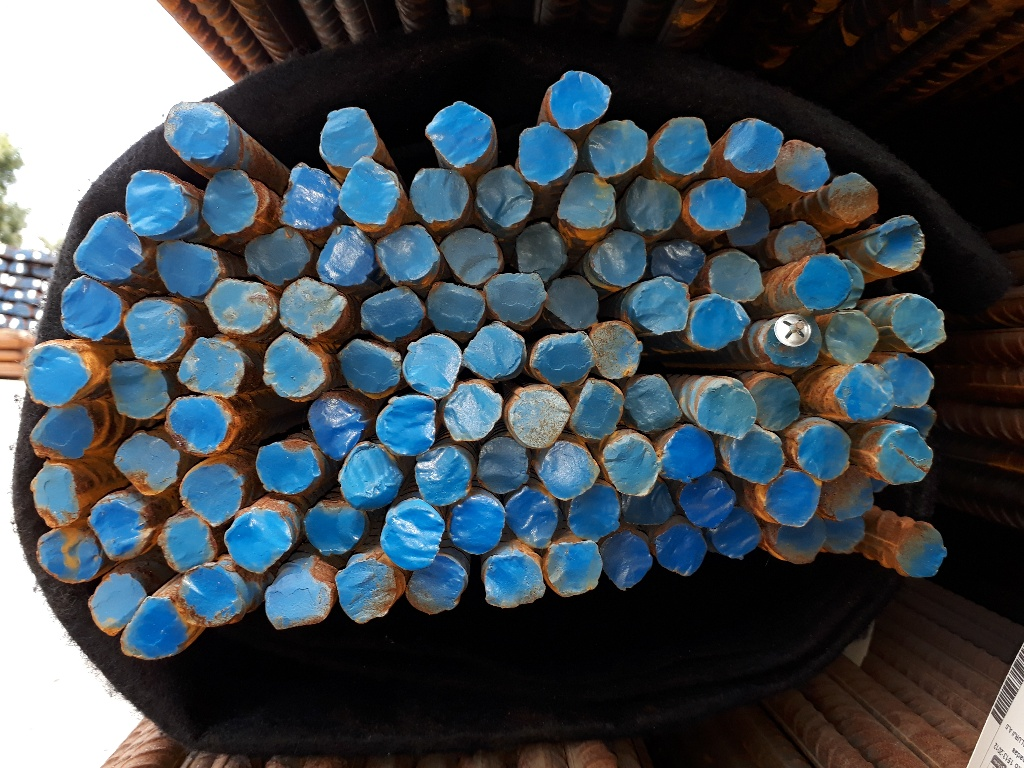dipstick: (424, 101, 494, 170), (72, 212, 144, 279), (381, 500, 445, 573), (339, 441, 405, 509), (177, 336, 247, 400), (278, 160, 341, 231), (337, 157, 400, 226), (23, 344, 91, 407), (225, 511, 291, 575), (119, 597, 186, 660), (86, 502, 155, 563), (114, 433, 180, 496), (279, 278, 349, 337), (164, 397, 233, 456), (550, 67, 613, 131), (335, 559, 398, 623), (179, 564, 243, 627), (264, 333, 326, 398), (164, 101, 231, 161), (180, 464, 243, 527), (61, 277, 123, 341), (205, 278, 275, 334), (125, 298, 186, 362), (89, 572, 149, 637), (517, 121, 578, 184), (339, 338, 403, 398), (106, 360, 170, 420), (585, 120, 648, 180), (407, 552, 467, 615), (126, 171, 186, 234), (154, 239, 218, 298), (475, 164, 533, 228), (244, 227, 308, 285), (257, 438, 321, 496), (374, 396, 435, 456), (538, 441, 600, 500), (891, 290, 948, 354), (37, 527, 102, 583), (202, 171, 257, 237), (444, 382, 504, 442), (315, 226, 375, 286), (319, 108, 378, 169), (403, 334, 460, 397), (533, 330, 594, 388), (439, 229, 501, 286), (504, 487, 558, 552), (510, 389, 570, 447), (158, 516, 219, 573), (30, 406, 94, 460), (29, 463, 81, 529), (653, 116, 711, 175), (602, 438, 660, 497), (448, 498, 506, 557), (793, 253, 853, 310), (556, 172, 616, 229), (627, 174, 683, 235), (483, 554, 546, 608), (308, 396, 361, 460), (302, 504, 367, 556), (633, 277, 691, 335), (692, 296, 751, 353), (568, 378, 624, 438), (591, 226, 646, 287), (409, 168, 470, 223), (462, 324, 524, 378), (876, 430, 934, 487), (626, 374, 682, 433), (546, 538, 602, 597), (724, 118, 784, 173), (266, 578, 332, 628), (485, 271, 546, 325), (835, 363, 892, 420), (872, 214, 927, 273), (824, 306, 879, 365), (598, 531, 653, 590), (415, 446, 470, 505), (764, 470, 820, 527), (697, 385, 757, 438), (661, 423, 715, 481), (475, 435, 528, 494), (689, 179, 747, 232), (544, 275, 599, 330), (796, 427, 852, 481), (766, 316, 823, 368), (728, 431, 785, 483), (776, 139, 830, 193), (592, 324, 644, 379), (680, 478, 736, 528), (517, 222, 564, 281), (881, 356, 934, 408), (827, 171, 879, 224), (711, 250, 764, 302), (427, 284, 485, 331), (567, 487, 619, 539), (750, 377, 801, 430), (713, 505, 761, 560), (823, 469, 874, 520), (657, 524, 707, 575), (897, 528, 947, 578), (652, 238, 705, 281), (621, 483, 674, 526), (777, 520, 827, 565), (728, 197, 771, 247), (773, 223, 827, 262), (819, 511, 864, 553), (888, 402, 936, 435), (841, 260, 864, 308)
